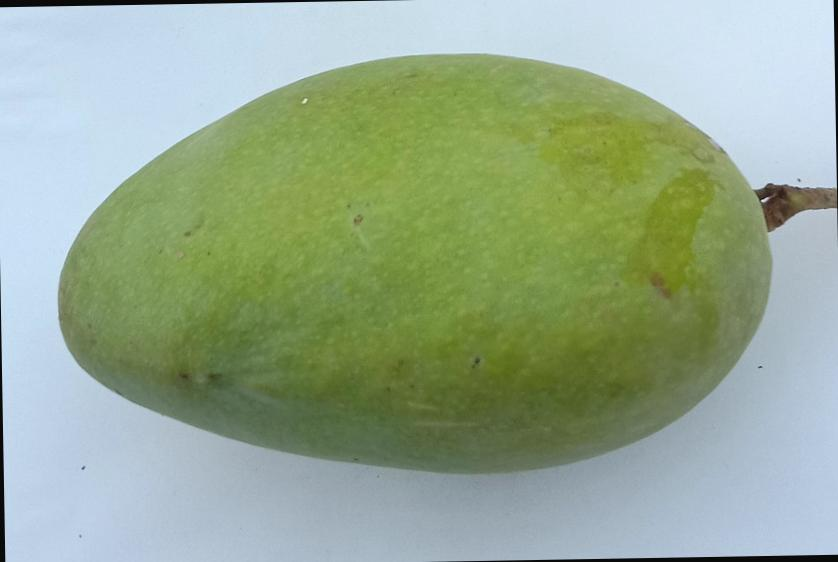Mango Unripe: (7, 14, 838, 535)
